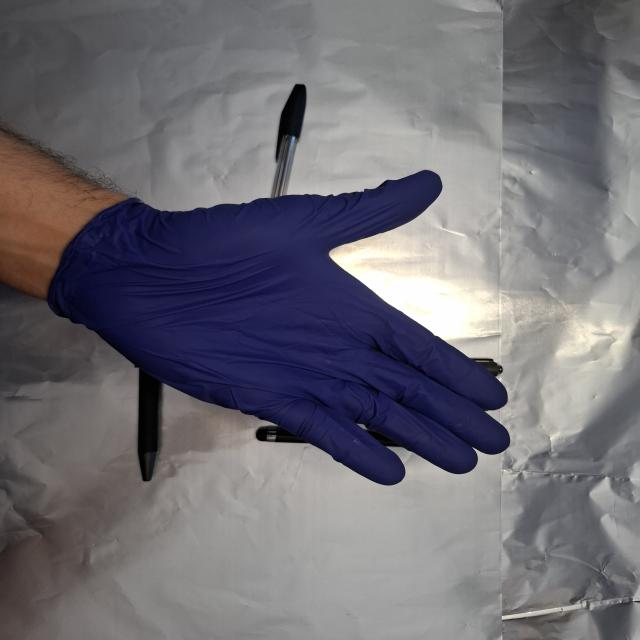glove_on: (43, 169, 516, 488)
